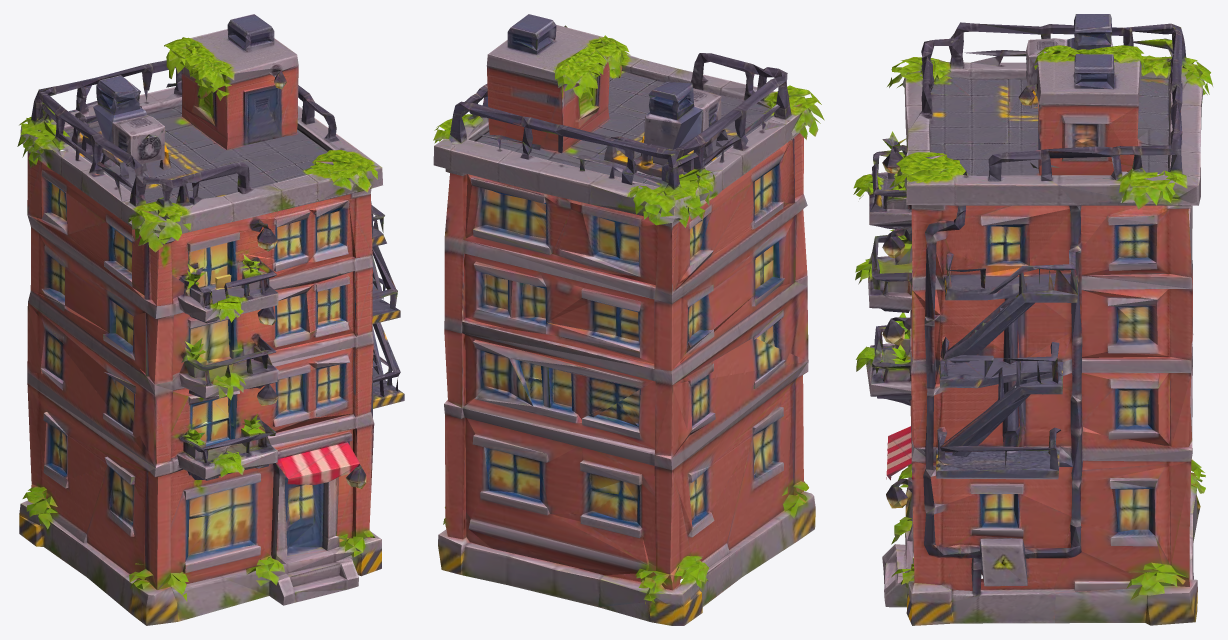
Rendered from brick_apartment_building.glb.
3 views of the same model, side by side, from view 1: azimuth 30°, elevation 25°; view 2: azimuth 150°, elevation 25°; view 3: azimuth 270°, elevation 25° (orthographic). The views are drawn at different scales.
Parts seen in each view (by area): view 1: output_unwrapped; view 2: output_unwrapped; view 3: output_unwrapped.
Part boxes in pixels (x1,y1,x2,y2): output_unwrapped: (17, 14, 404, 625); output_unwrapped: (433, 14, 824, 625); output_unwrapped: (853, 14, 1212, 625).
Size of what is drawn, in the model's own units: 0.5844 by 1 by 0.6032.
Materials: 1 (1 with a texture image).
